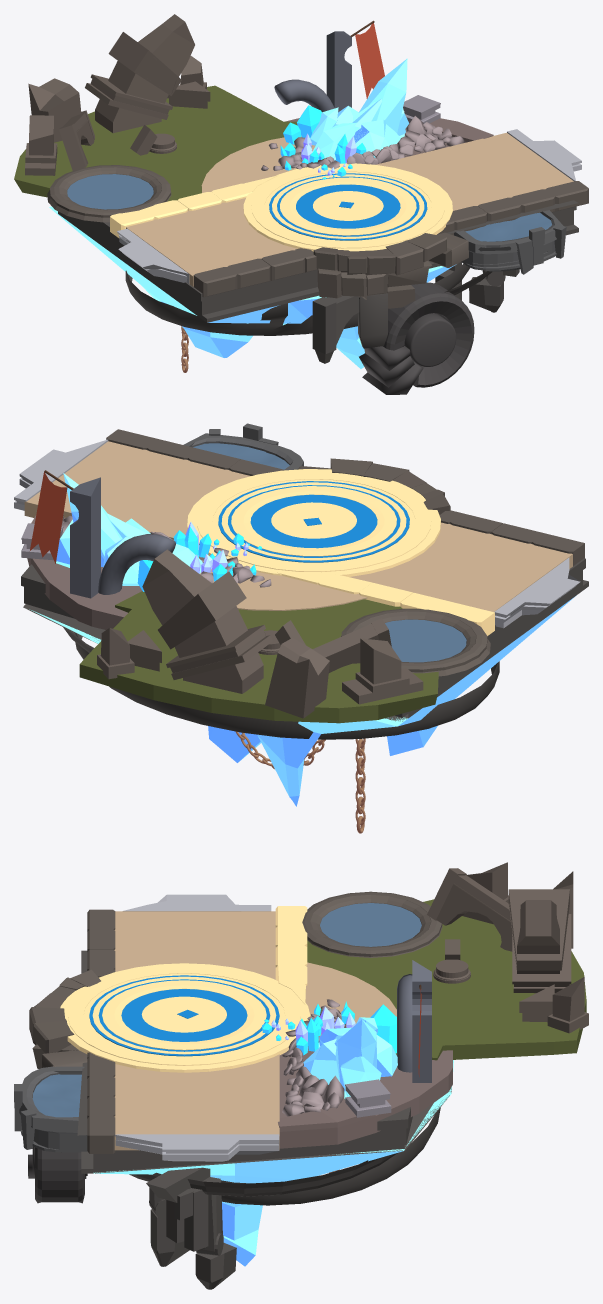
The model's file is HighPolyBigPlatform_withbasecolors.fbx.
3 renders of one model, top to bottom at view 1: azimuth 30°, elevation 25°; view 2: azimuth 150°, elevation 25°; view 3: azimuth 270°, elevation 25°, orthographic. The views are drawn at different scales.
Parts seen in each view (by area): view 1: main_platform, main_circle.001, groundbehind_02.001, pillar, platformonthecrystal.001, Cube.001, MainCrystal_onground, crystal_undertheplatform, middlecircle.001, front_rocks, main_circle, ring_undercrystal (+30 smaller); view 2: main_platform, main_circle.001, groundbehind_02.001, pillar, crystal_undertheplatform, main_circle, ring_undercrystal, Cube.001, platformonthecrystal.001, backleft_pillar_02, pillar_right, waterpool_rand (+21 smaller); view 3: main_platform, main_circle.001, groundbehind_02.001, ground_behind.001, platformonthecrystal.001, pillar, crystal_undertheplatform, main_circle, Cube.001, MainCrystal_onground, waterpool_rand, otherSide_playform (+29 smaller).
Part boxes in pixels (x1,y1,x2,y2): main_platform: (126, 132, 573, 286); main_circle.001: (243, 163, 452, 251); groundbehind_02.001: (14, 85, 297, 201); pillar: (85, 14, 194, 133); platformonthecrystal.001: (58, 200, 578, 322); Cube.001: (193, 181, 588, 297); MainCrystal_onground: (310, 58, 409, 160); crystal_undertheplatform: (49, 206, 456, 368); middlecircle.001: (383, 282, 474, 387); front_rocks: (317, 232, 468, 308); main_circle: (269, 173, 427, 240); ring_undercrystal: (125, 264, 469, 335); main_platform: (24, 441, 572, 615); main_circle.001: (187, 469, 440, 576); groundbehind_02.001: (79, 591, 438, 723); pillar: (142, 549, 272, 693); crystal_undertheplatform: (29, 595, 576, 806); main_circle: (218, 481, 409, 562); ring_undercrystal: (74, 632, 499, 739); Cube.001: (106, 429, 584, 565); platformonthecrystal.001: (21, 558, 588, 721); backleft_pillar_02: (265, 638, 329, 718); pillar_right: (70, 477, 100, 598); waterpool_rand: (341, 608, 490, 676); main_platform: (114, 911, 279, 1150); main_circle.001: (60, 963, 310, 1072); groundbehind_02.001: (307, 899, 586, 1060); ground_behind.001: (278, 1046, 452, 1148); platformonthecrystal.001: (77, 950, 451, 1173); pillar: (508, 889, 571, 993); crystal_undertheplatform: (93, 1060, 453, 1266); main_circle: (89, 975, 279, 1056); Cube.001: (87, 909, 115, 1153); MainCrystal_onground: (303, 1017, 397, 1098); waterpool_rand: (302, 891, 442, 957); otherSide_playform: (114, 1134, 279, 1161).
Bounding box in the file's own units: 3811 × 2274 × 3565.
